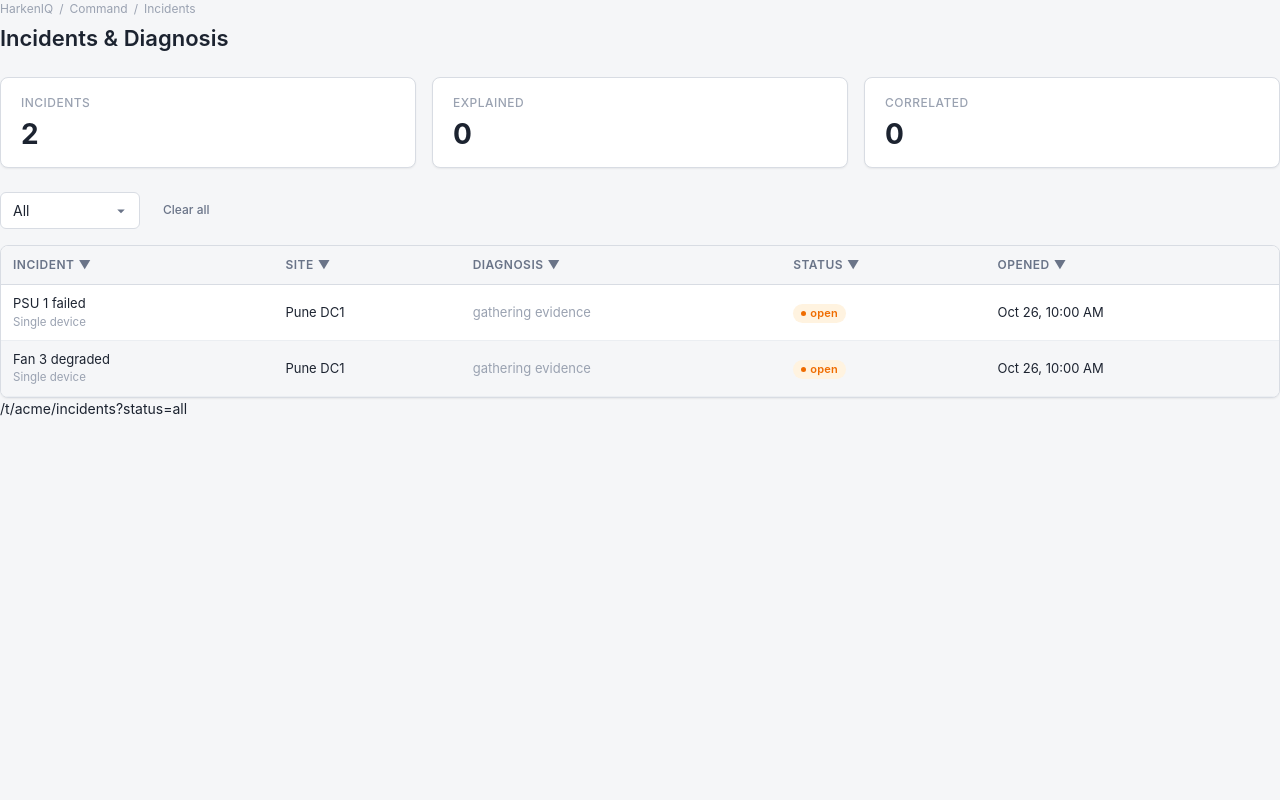
Test: an incident URL opens that incident › opening a row pushes its URL; Escape steps back to the exact list entry
Click the text "Fan 3 degraded" at point(61, 359), box [13, 351, 110, 384]
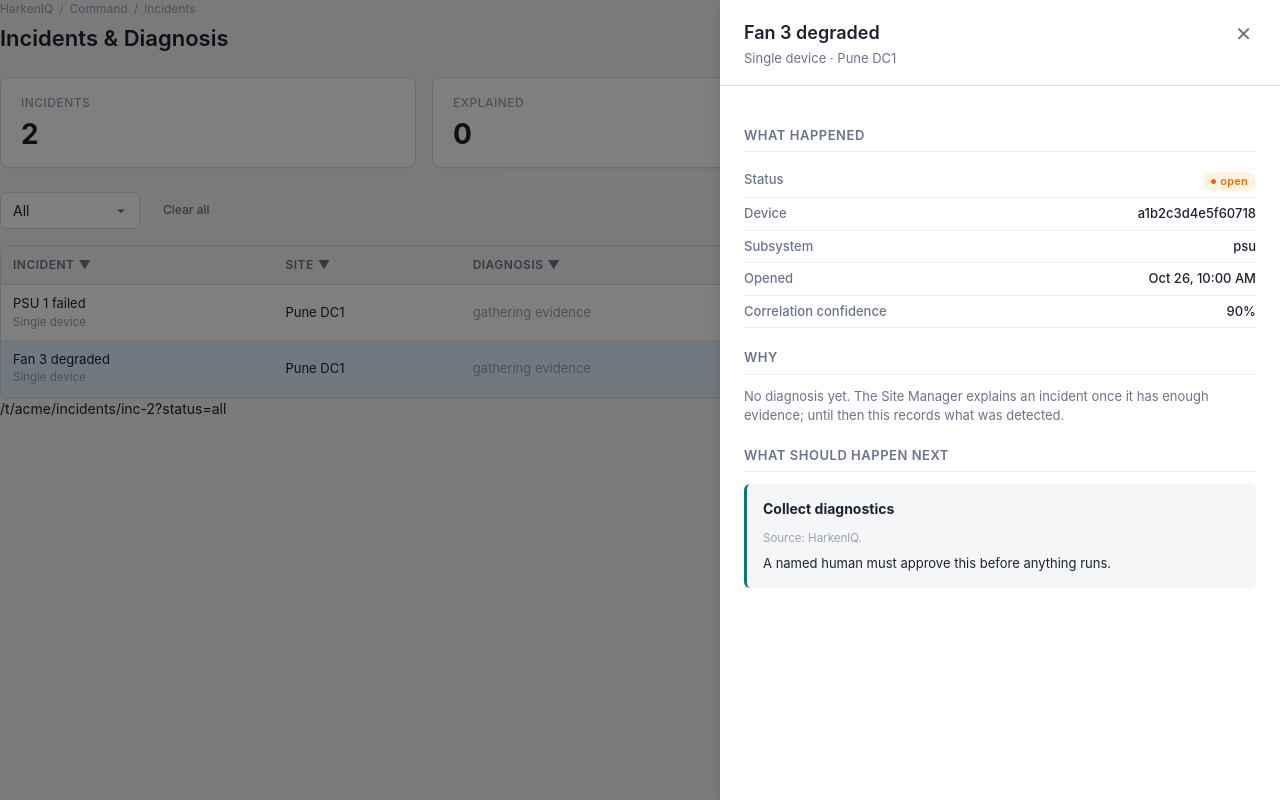
Expected: the text with test id "location" reads "/t/acme/incidents/inc-2?status=all", [0, 400, 226, 417]
Expected: the dialog "Fan 3 degraded" is shown, [720, 0, 1279, 799]
Press Escape
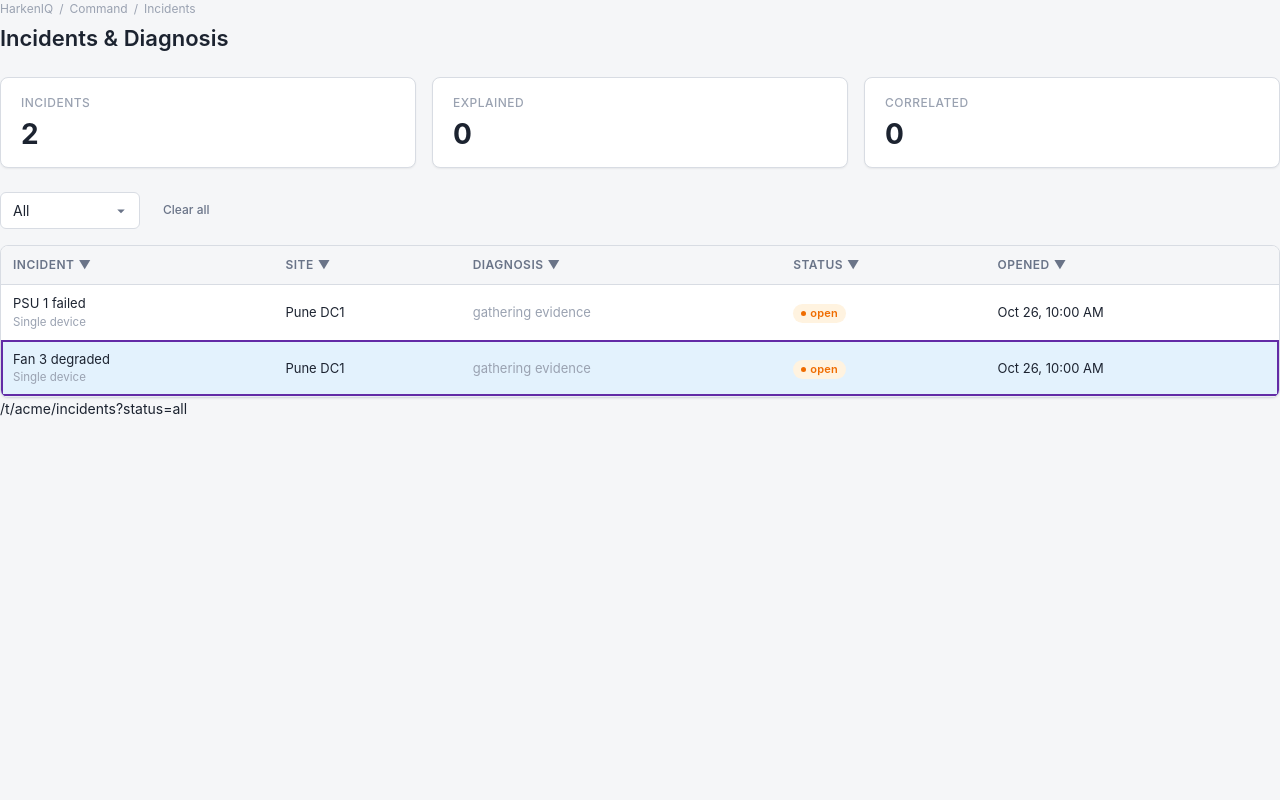
Expected: the text with test id "location" reads "/t/acme/incidents?status=all", [0, 400, 187, 417]
